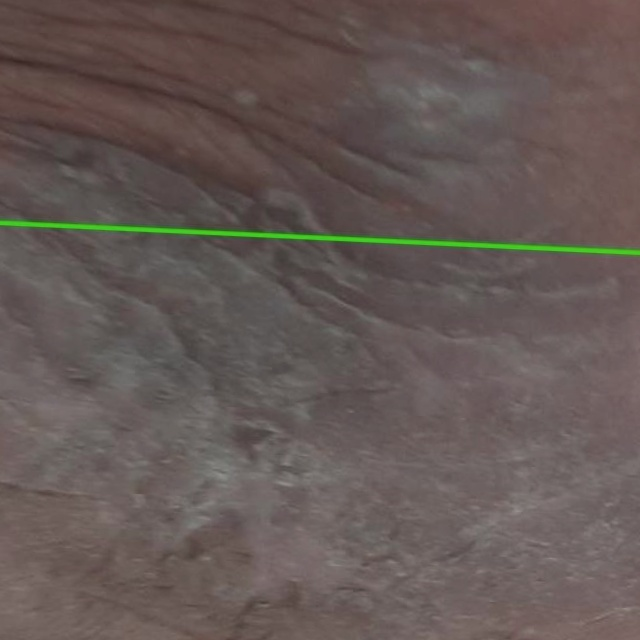Eczema: (0, 0, 639, 252)
